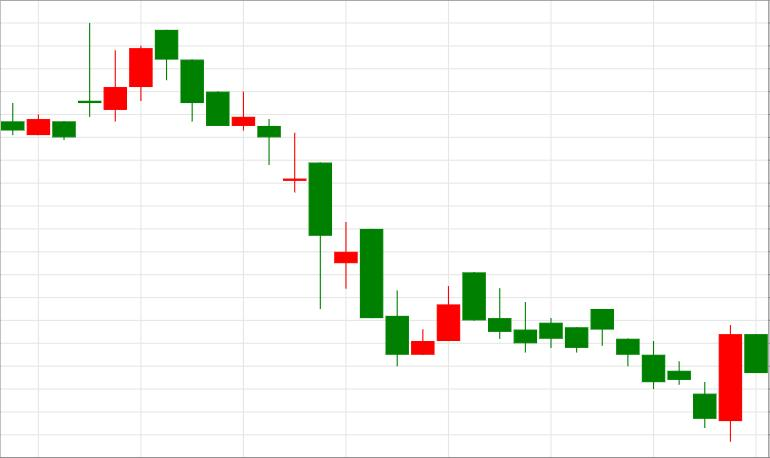bullish_engulfing_rise: (591, 308, 742, 441)
